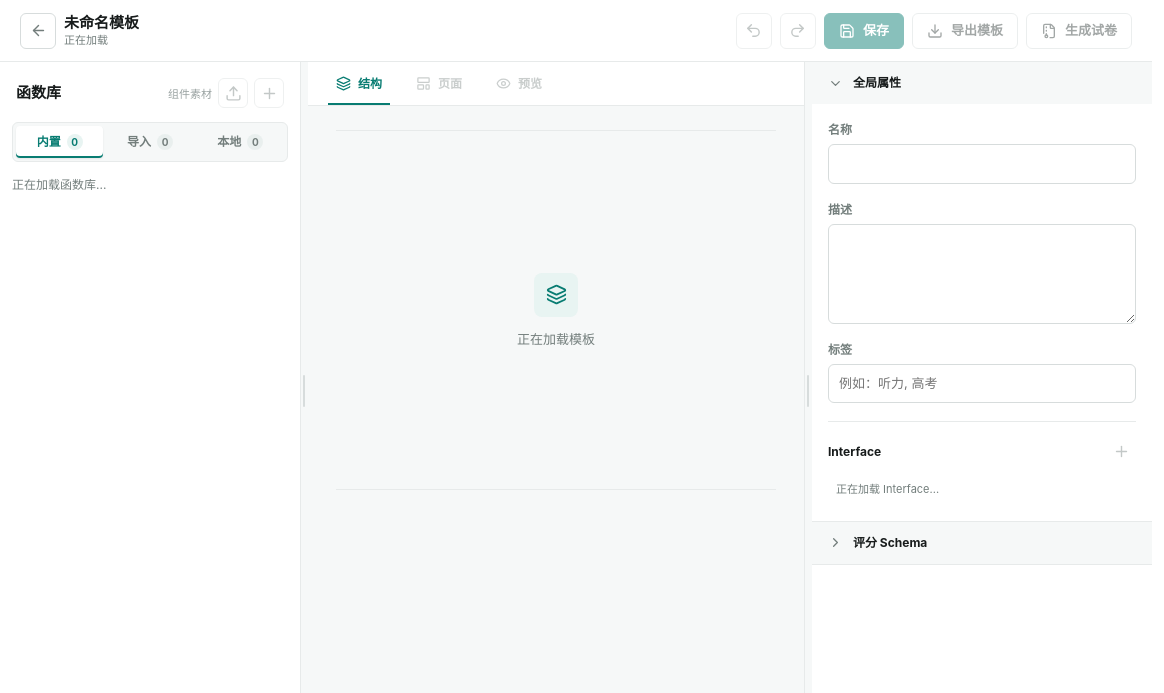
Test: Template function pages › opens an editor only from a local function card
The image size is (1164, 693).
Step 1. Click the tab with aria-label "本地函数库" → (240, 142), box [197, 126, 284, 158]
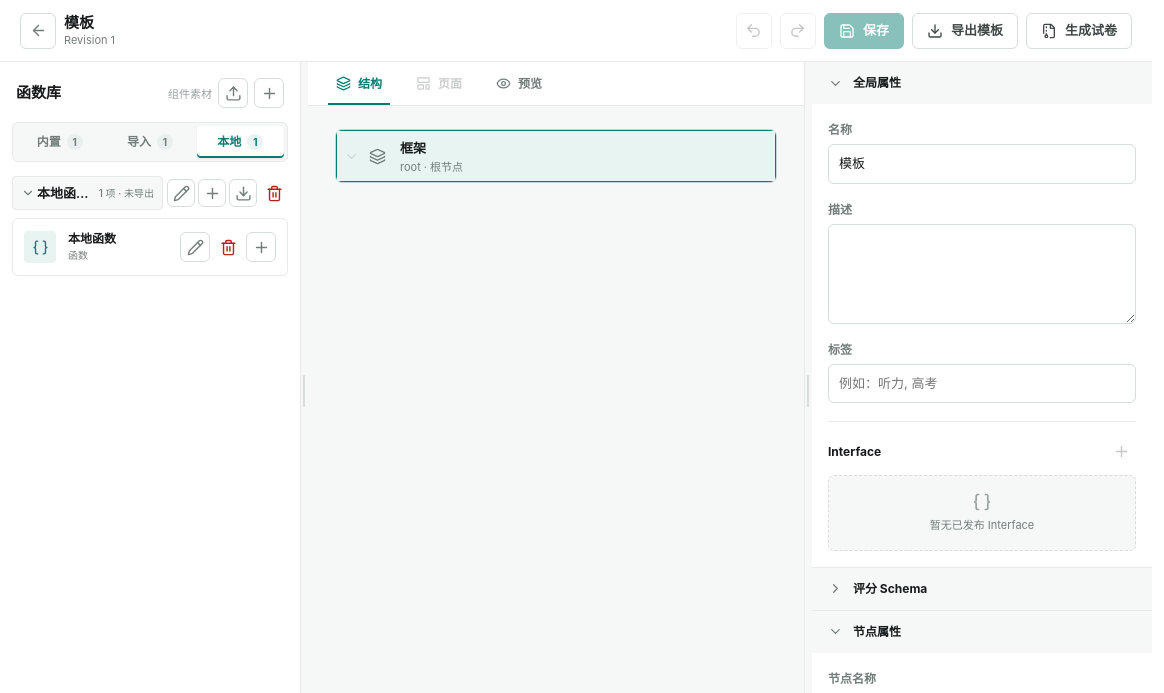
expect the button named "编辑本地函数" is shown: met, box [180, 232, 210, 262]
Step 2. Click the tab with aria-label "导入函数库" → (150, 142), box [106, 126, 194, 158]
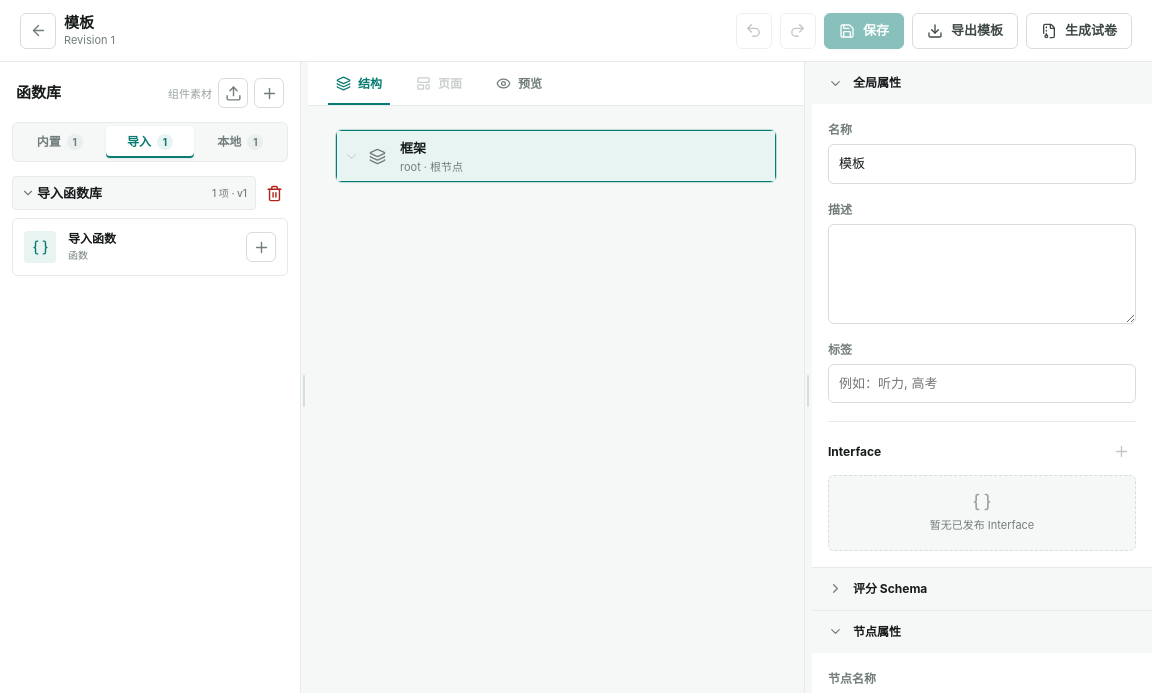
Step 3. Click the tab with aria-label "本地函数库" → (240, 142), box [197, 126, 284, 158]
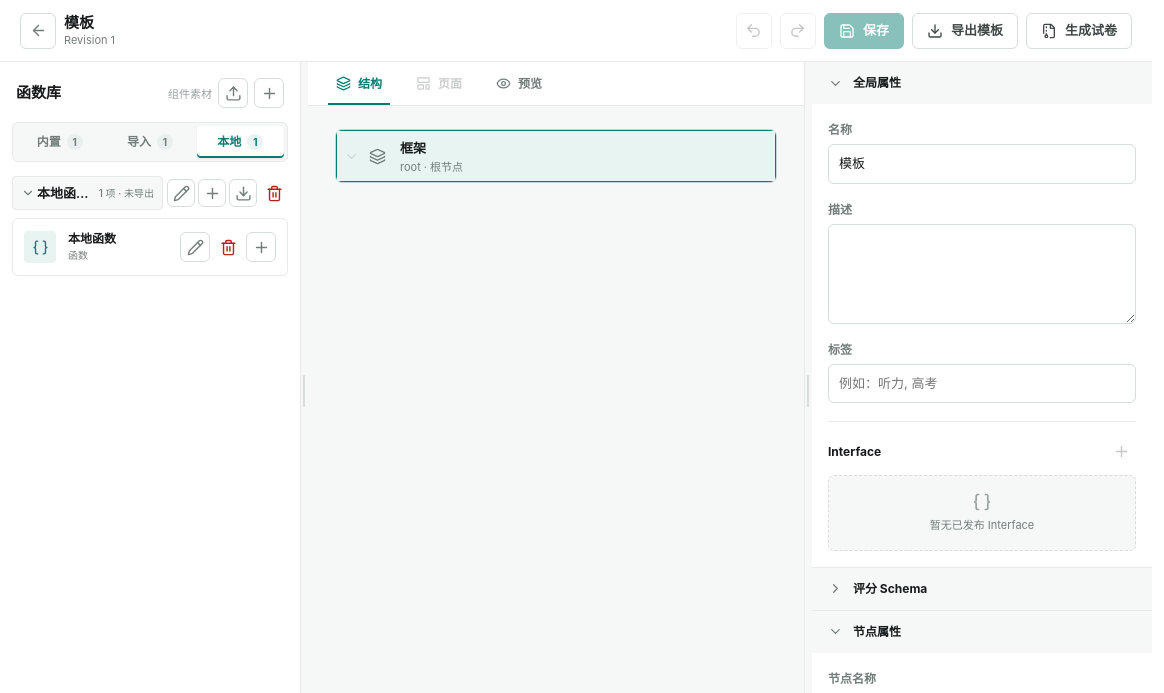
Step 4. Replace the text in the field labelled "名称" with "进入函数前保存" → (982, 164), box [828, 144, 1136, 184]
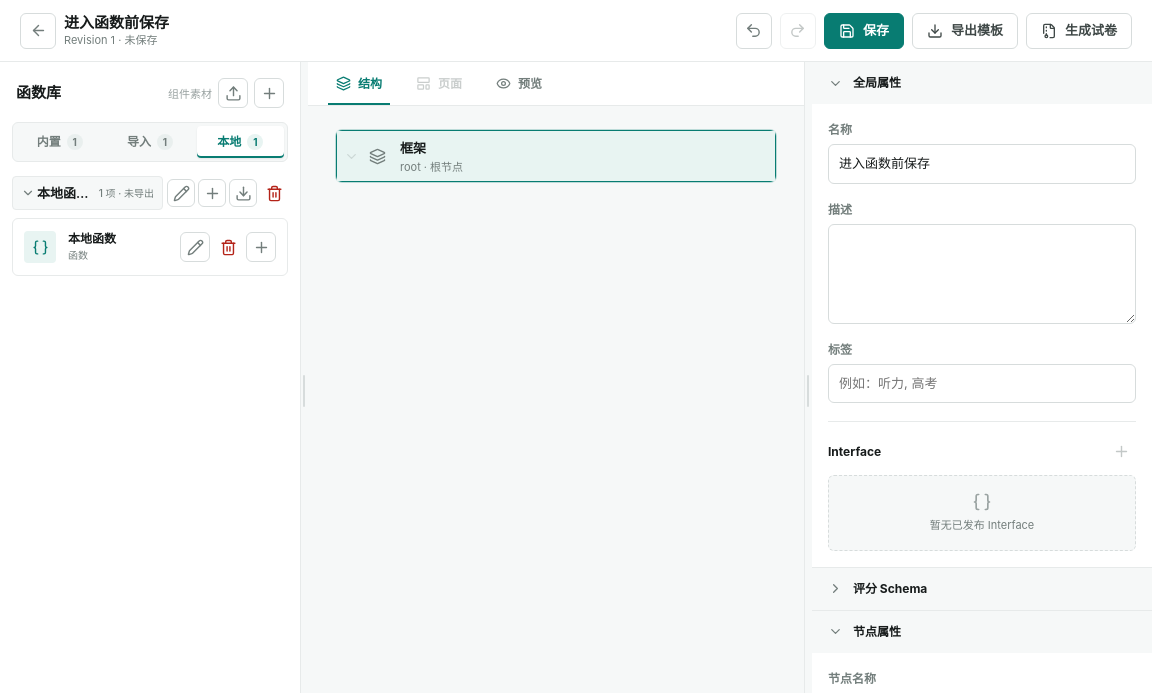
Step 5. Click the button named "编辑本地函数" → (195, 247), box [180, 232, 210, 262]
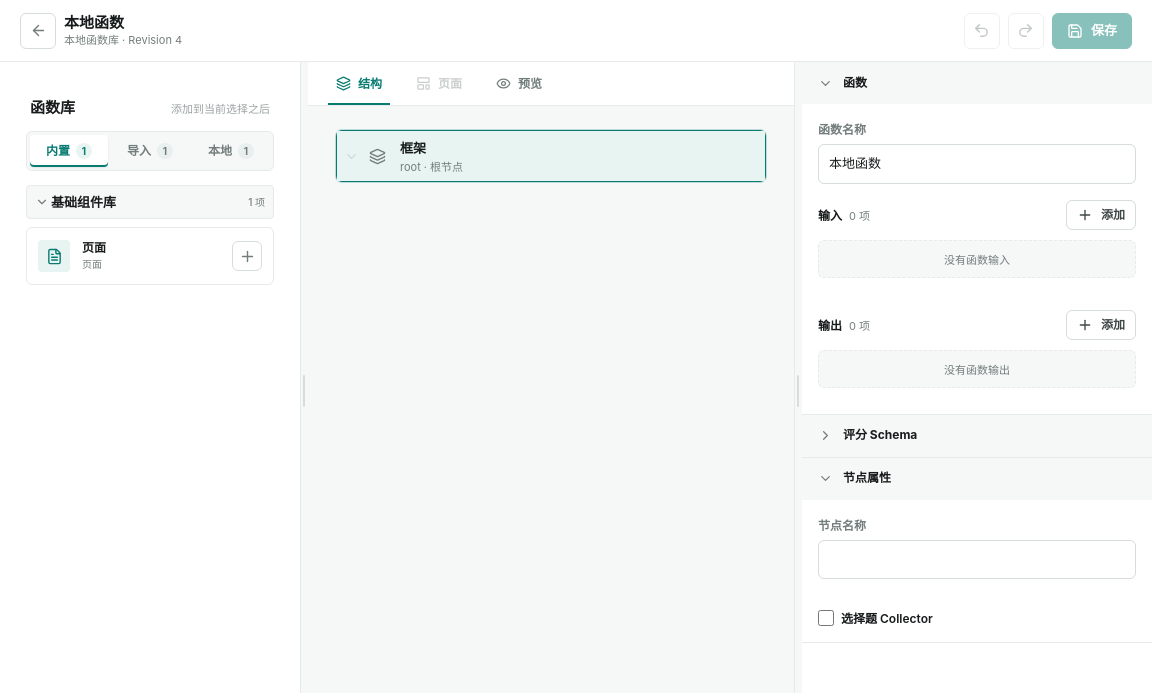
expect the button named "返回模板编辑" is shown: met, box [20, 12, 56, 48]
expect the heading "本地函数" is shown: met, box [64, 13, 124, 32]
